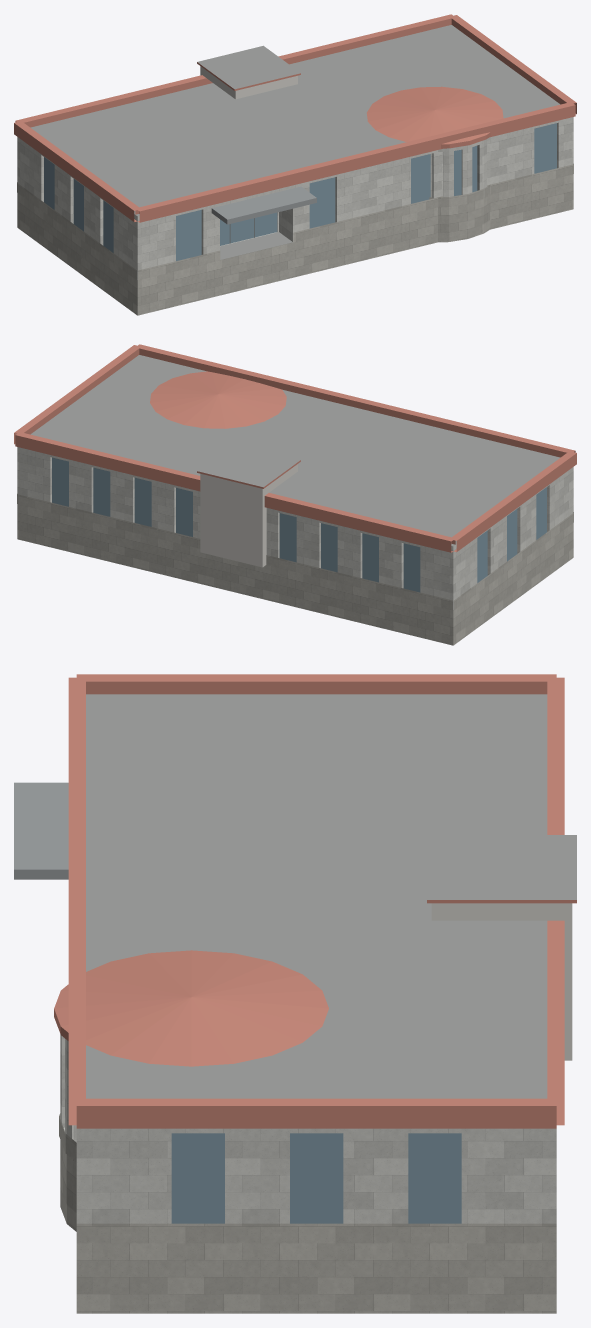
3 renders of one model, top to bottom at view 1: azimuth 30°, elevation 25°; view 2: azimuth 150°, elevation 25°; view 3: azimuth 270°, elevation 25°, orthographic. The views are drawn at different scales.
Visible parts, largest first — view 1: fmriCenterN23__roof, fmriCenterN23__base, fmriCenterN23__trim, fmriCenterN23__wall, fmriCenterN23__glass, fmriCenterN23__canopy, fmriCenterN23__wall2; view 2: fmriCenterN23__roof, fmriCenterN23__base, fmriCenterN23__trim, fmriCenterN23__wall, fmriCenterN23__glass, fmriCenterN23__wall2; view 3: fmriCenterN23__roof, fmriCenterN23__trim, fmriCenterN23__base, fmriCenterN23__wall, fmriCenterN23__glass, fmriCenterN23__canopy, fmriCenterN23__wall2.
Boxes of the visible parts, <box> form: fmriCenterN23__roof: <box>30,25,560,259</box>; fmriCenterN23__base: <box>17,164,573,315</box>; fmriCenterN23__trim: <box>14,14,576,222</box>; fmriCenterN23__wall: <box>17,117,573,280</box>; fmriCenterN23__glass: <box>44,123,556,260</box>; fmriCenterN23__canopy: <box>211,186,316,224</box>; fmriCenterN23__wall2: <box>200,66,297,99</box>; fmriCenterN23__roof: <box>30,355,560,546</box>; fmriCenterN23__base: <box>17,494,573,645</box>; fmriCenterN23__trim: <box>14,344,576,552</box>; fmriCenterN23__wall: <box>17,447,573,610</box>; fmriCenterN23__glass: <box>52,457,546,592</box>; fmriCenterN23__wall2: <box>200,464,297,567</box>; fmriCenterN23__roof: <box>86,694,576,1098</box>; fmriCenterN23__trim: <box>54,674,576,1128</box>; fmriCenterN23__base: <box>59,1113,556,1313</box>; fmriCenterN23__wall: <box>60,1034,556,1223</box>; fmriCenterN23__glass: <box>171,1133,461,1223</box>; fmriCenterN23__canopy: <box>14,782,68,879</box>; fmriCenterN23__wall2: <box>431,903,572,1060</box>.
Bounding box in the file's own units: 32.68 × 8.25 × 18.01.
9 materials, 2 textured.
